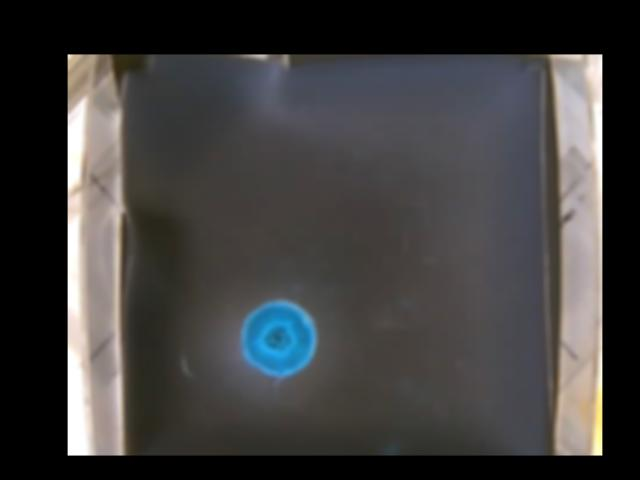Carrot: (238, 300, 317, 375)
